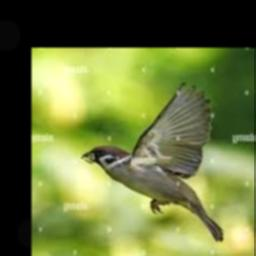Sparrow: (82, 83, 224, 241)
